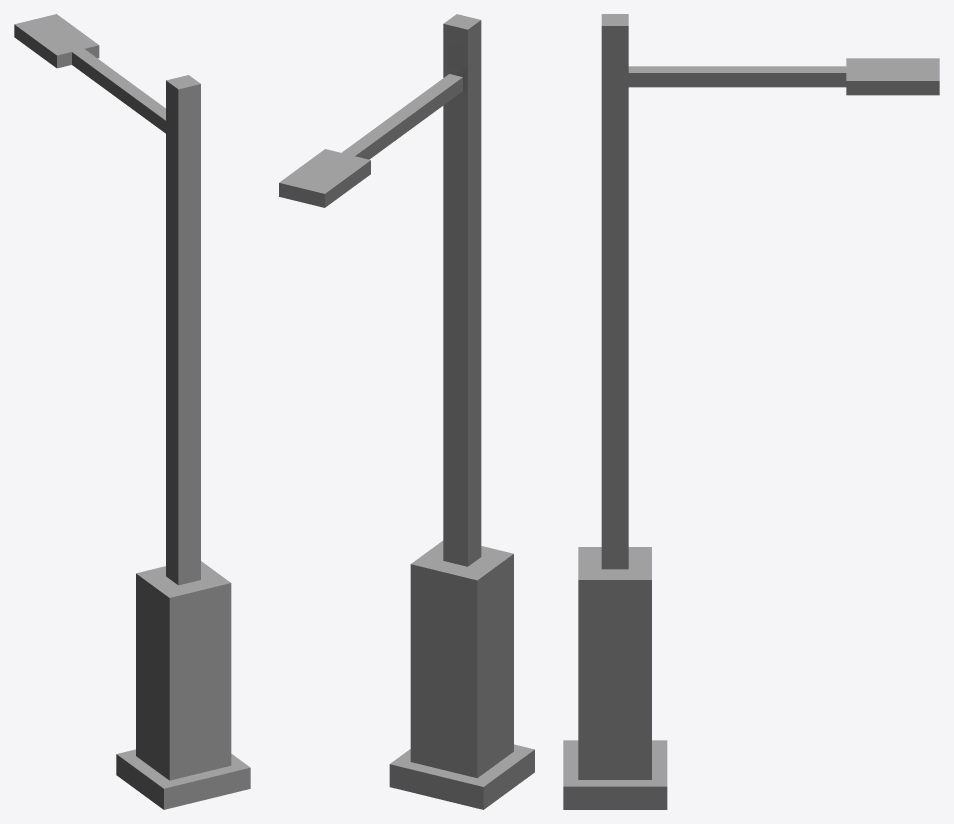
The model's file is lamp_mesh.fbx.
The picture shows the model from 3 angles, left to right: view 1: azimuth 30°, elevation 25°; view 2: azimuth 150°, elevation 25°; view 3: azimuth 270°, elevation 25°; orthographic projection. The views are drawn at different scales.
Parts seen in each view (by area): view 1: lamp_mesh; view 2: lamp_mesh; view 3: lamp_mesh.
Boxes of the visible parts, x1,y1,x2,y2 form: lamp_mesh: (14, 14, 250, 809); lamp_mesh: (279, 14, 534, 809); lamp_mesh: (563, 14, 939, 809).
Size of the model in its own units: 1.11 by 8.55 by 3.81.
